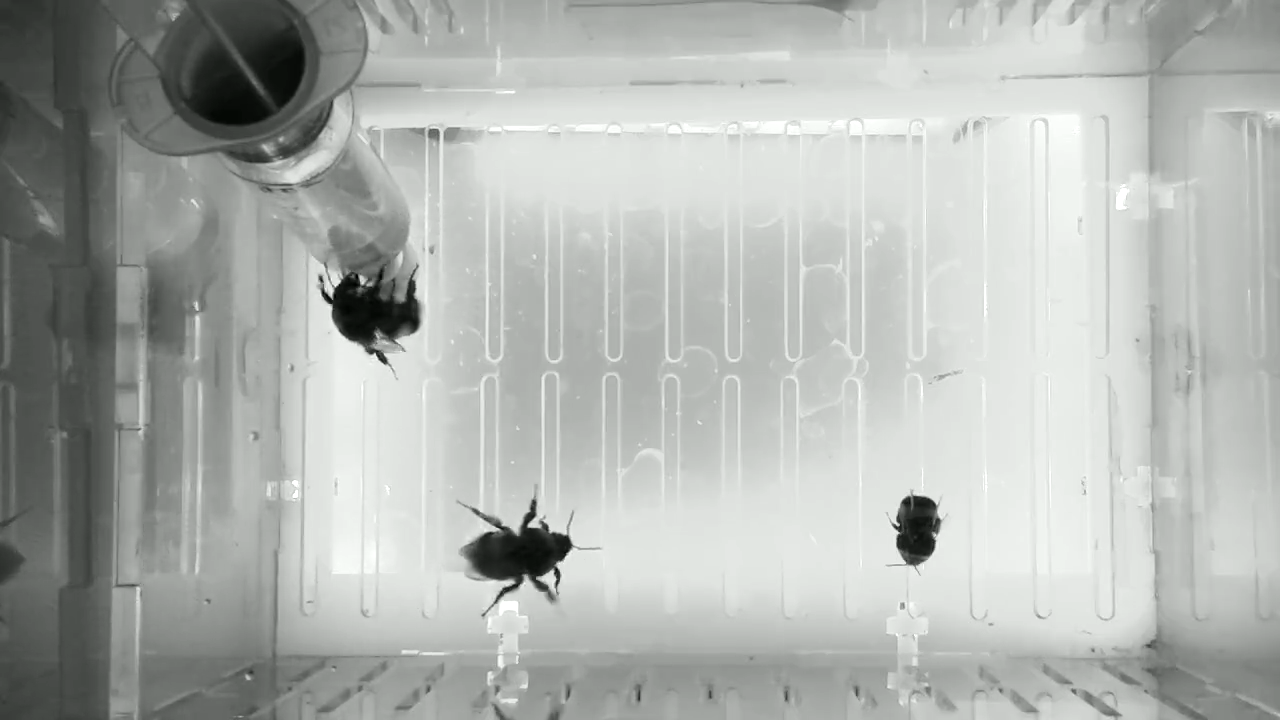bee: (450, 480, 609, 620), (312, 258, 428, 384), (880, 483, 953, 580)
feeder: (248, 105, 413, 278)
